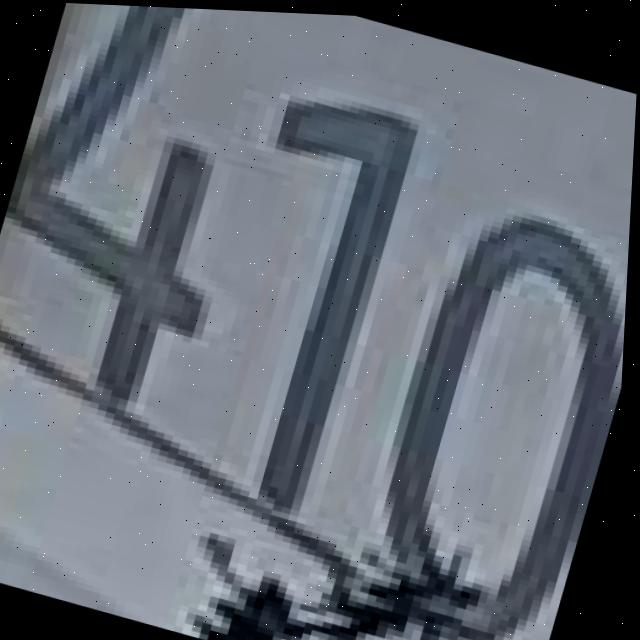character: (324, 175, 632, 640), (0, 0, 296, 429), (165, 75, 437, 537)
